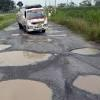Pothole: (0, 66, 58, 100), (0, 46, 59, 75), (65, 69, 100, 100), (64, 40, 100, 64), (0, 37, 18, 51)
